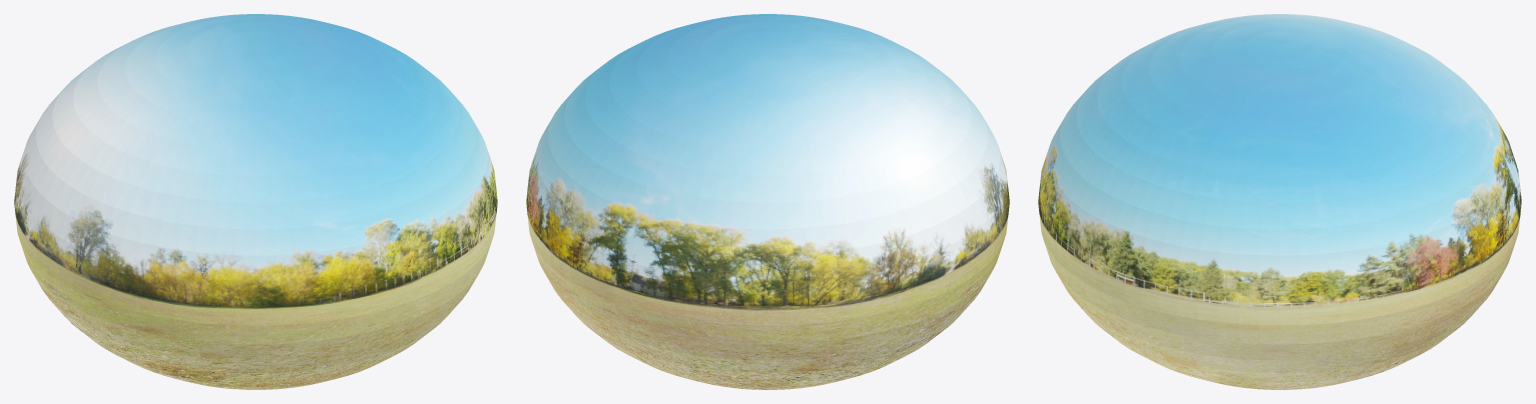
File: industrial-hall.glb
The picture shows the model from 3 angles, left to right: view 1: azimuth 30°, elevation 25°; view 2: azimuth 150°, elevation 25°; view 3: azimuth 270°, elevation 25°; orthographic projection.
Visible parts, largest first — view 1: Environment_Park; view 2: Environment_Park; view 3: Environment_Park.
Boxes of the visible parts, <box> form: Environment_Park: <box>14,14,497,389</box>; Environment_Park: <box>526,14,1009,389</box>; Environment_Park: <box>1038,14,1521,389</box>.
Bounding box in the file's own units: 213 × 154 × 213.
28 materials, 5 textured.
